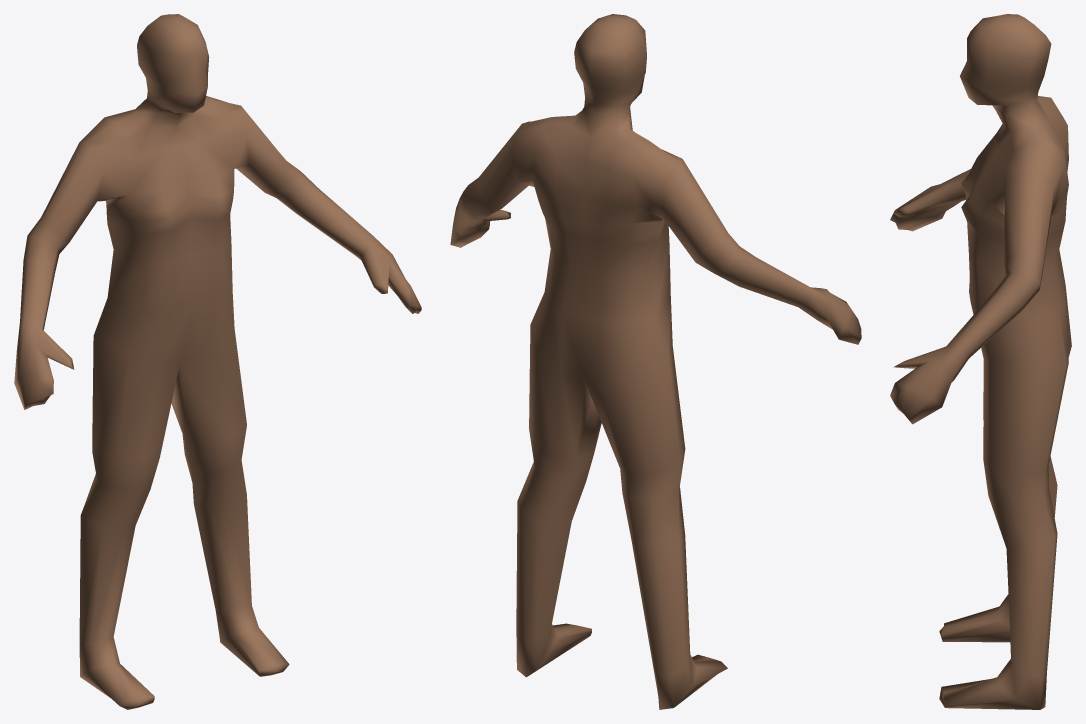
Rendered from makehuman_base.obj.
3 renders of one model, left to right at view 1: azimuth 30°, elevation 25°; view 2: azimuth 150°, elevation 25°; view 3: azimuth 270°, elevation 25°, orthographic.
Bounding box in the file's own units: 10.59 × 16.71 × 4.19.
